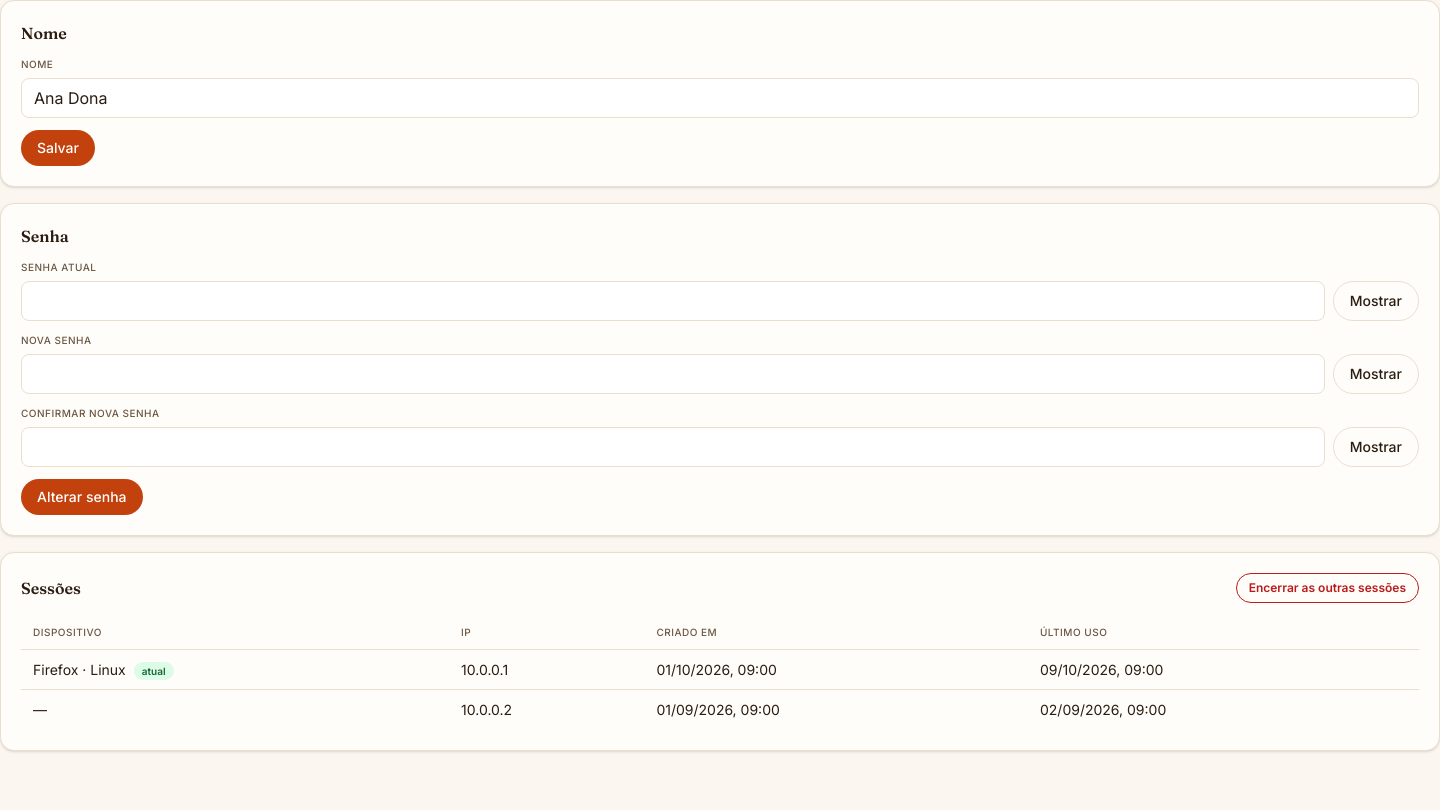
Scenario: MyAccountSection › renamesAndRefreshesMe
This screenshot has width=1440, height=810.
Replace the text in the field labelled "Nome" with "Ana Souza". click: (720, 98)
box: [21,78,1419,118]
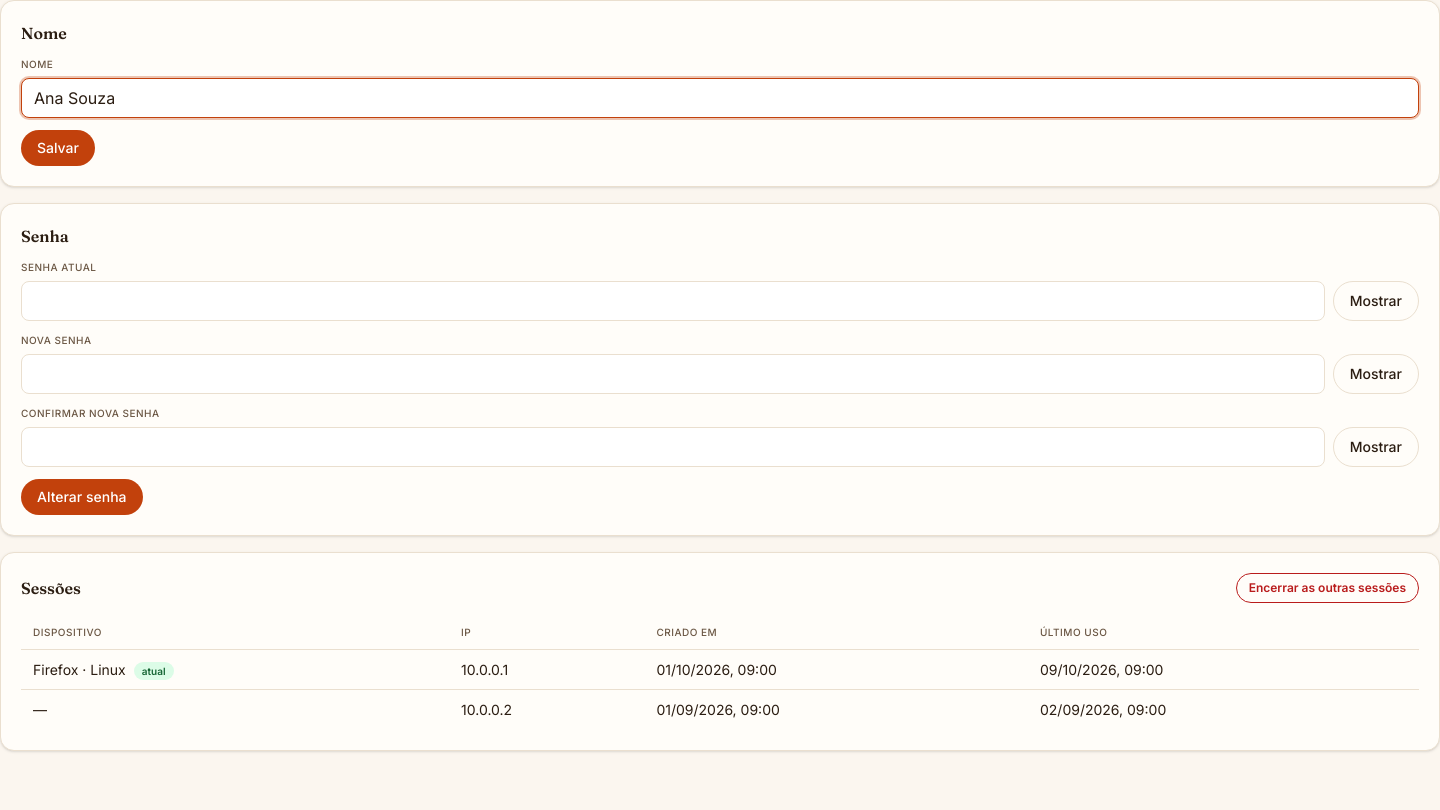
Click the button "Salvar". click: (58, 148)
box: [21,130,95,166]
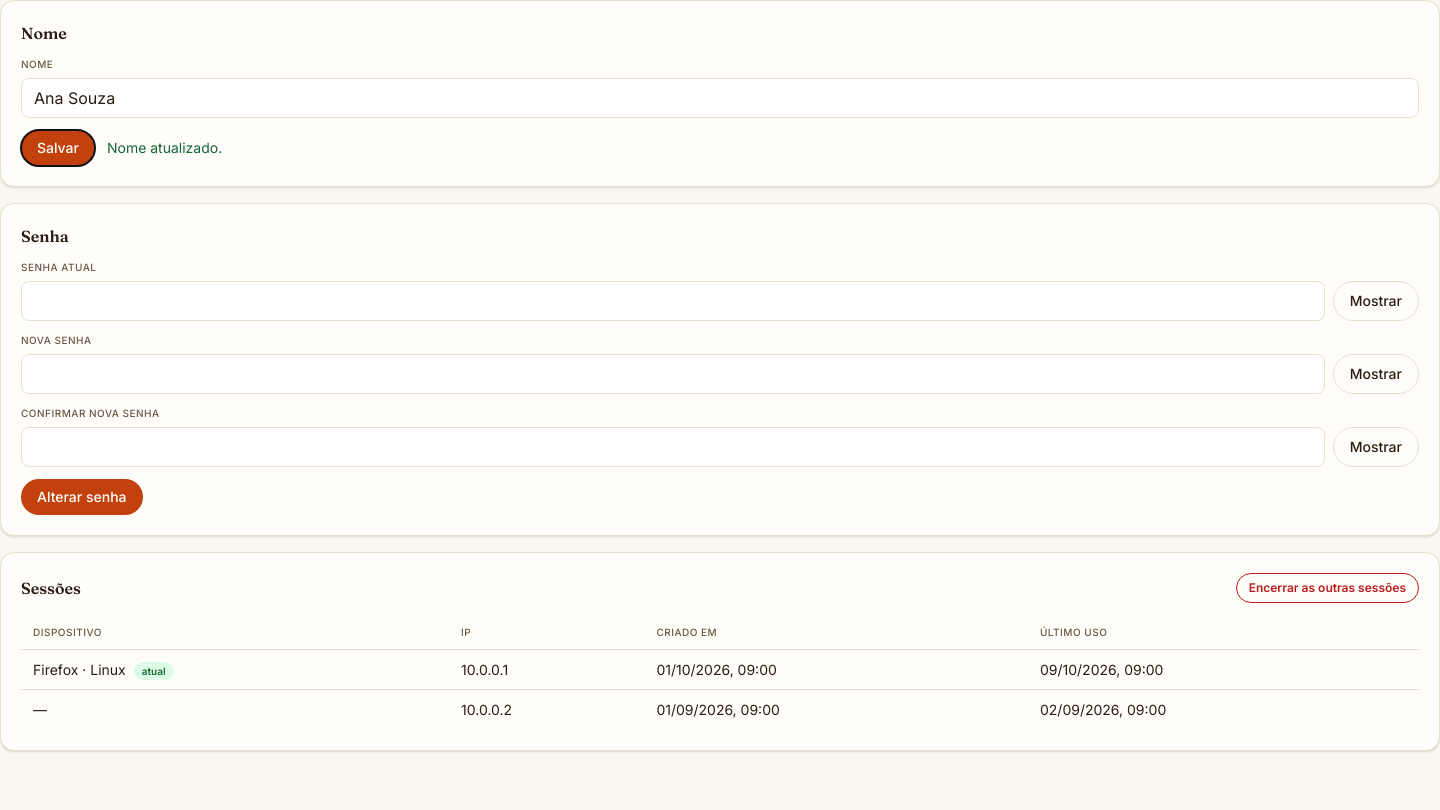
expect the text "Nome atualizado." is shown: met, box [107,138,222,158]
